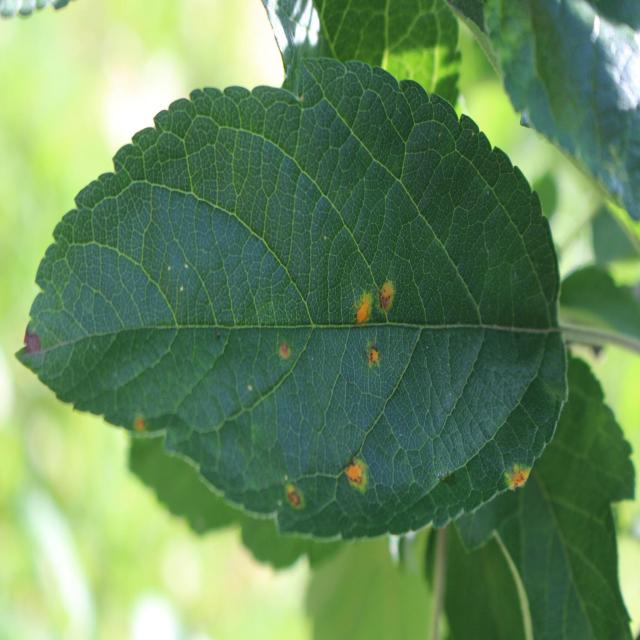Rust: (346, 454, 380, 505), (498, 456, 536, 501), (276, 479, 311, 524), (374, 276, 402, 328), (351, 288, 377, 333), (126, 418, 151, 447), (278, 328, 296, 368), (364, 336, 382, 371)
